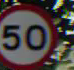Speed limit: (0, 2, 60, 69)
